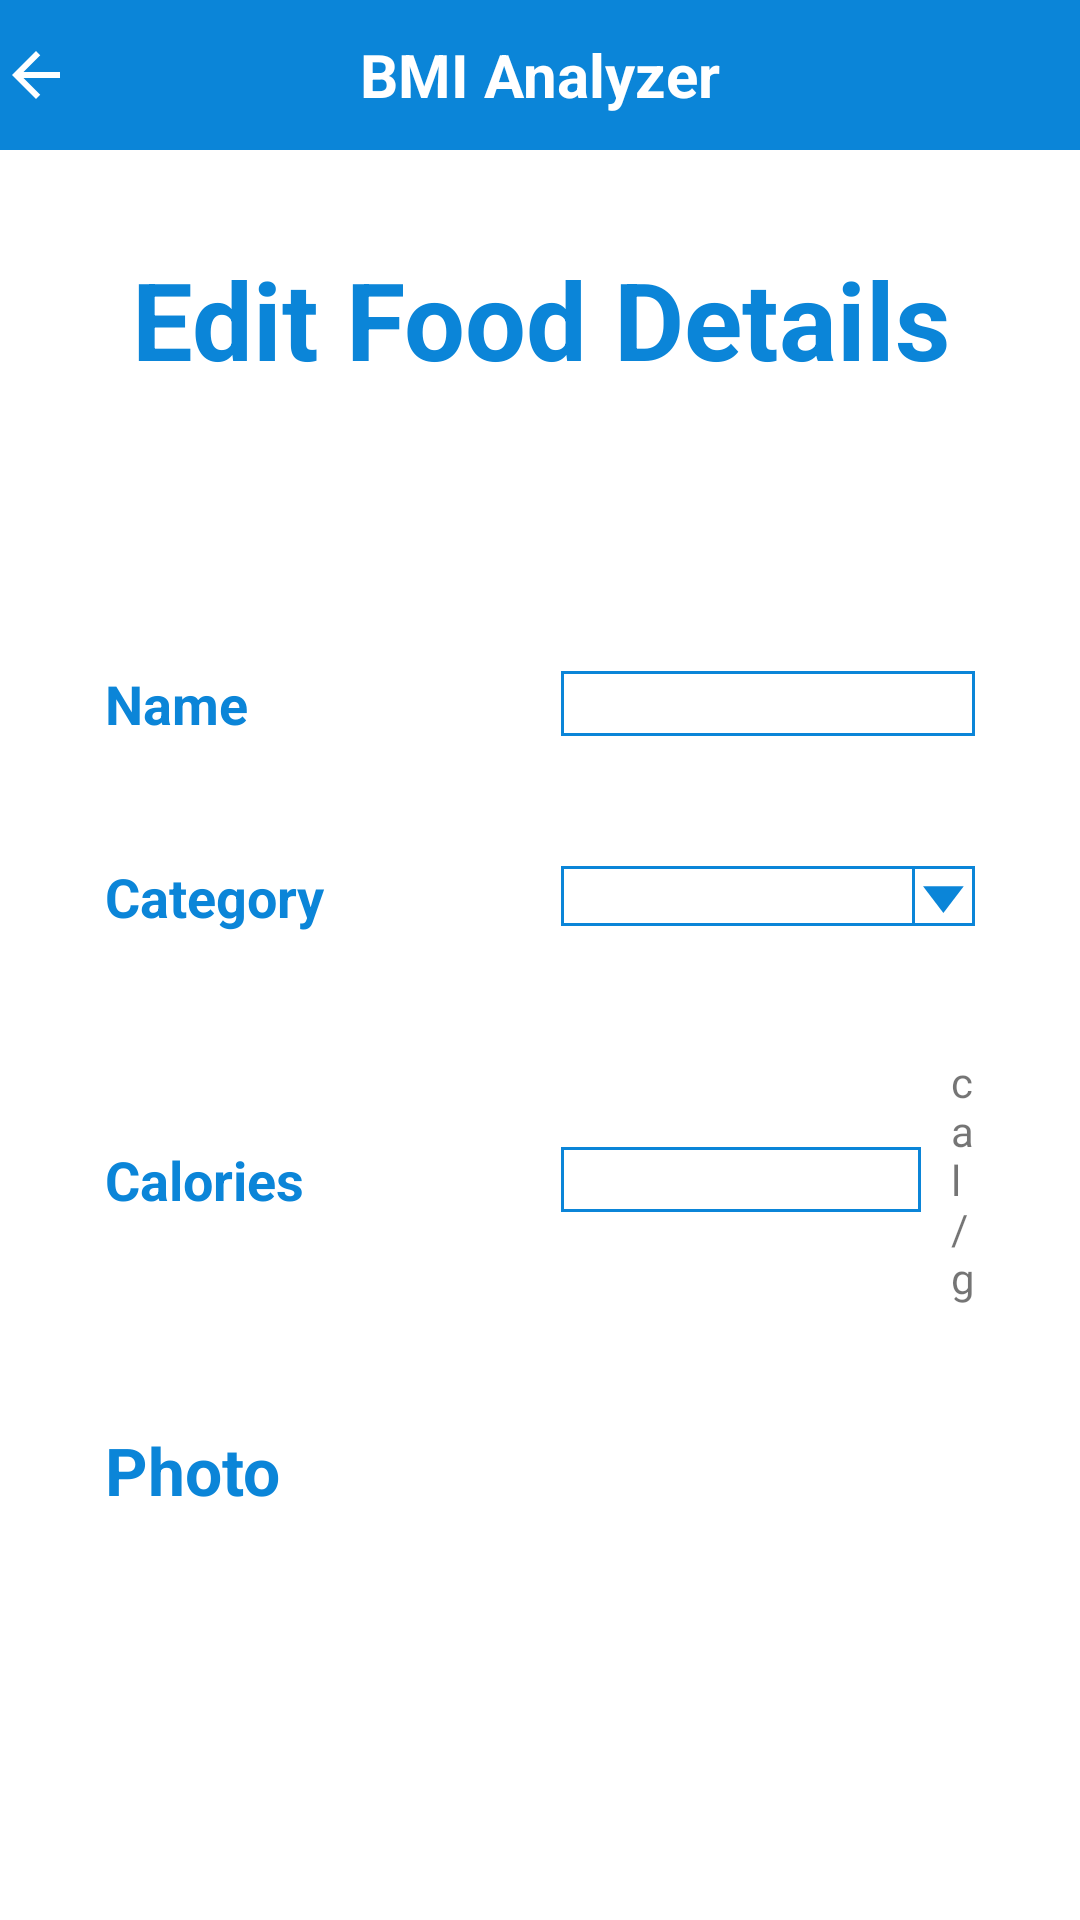

Screen size 1080×1920. Icon name, then its center in pixels as [x,y]:
back arrow: [36,75]
